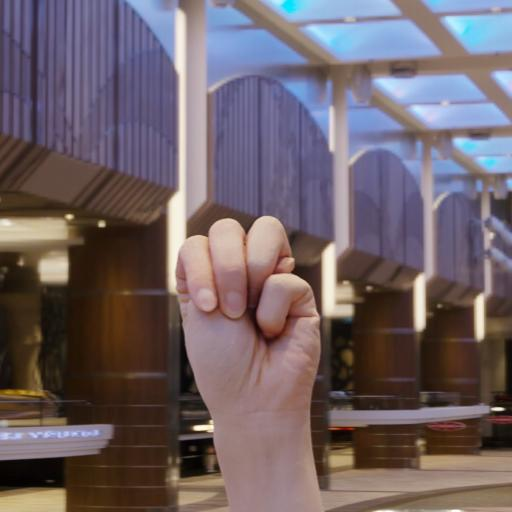M: (166, 202, 339, 421)
